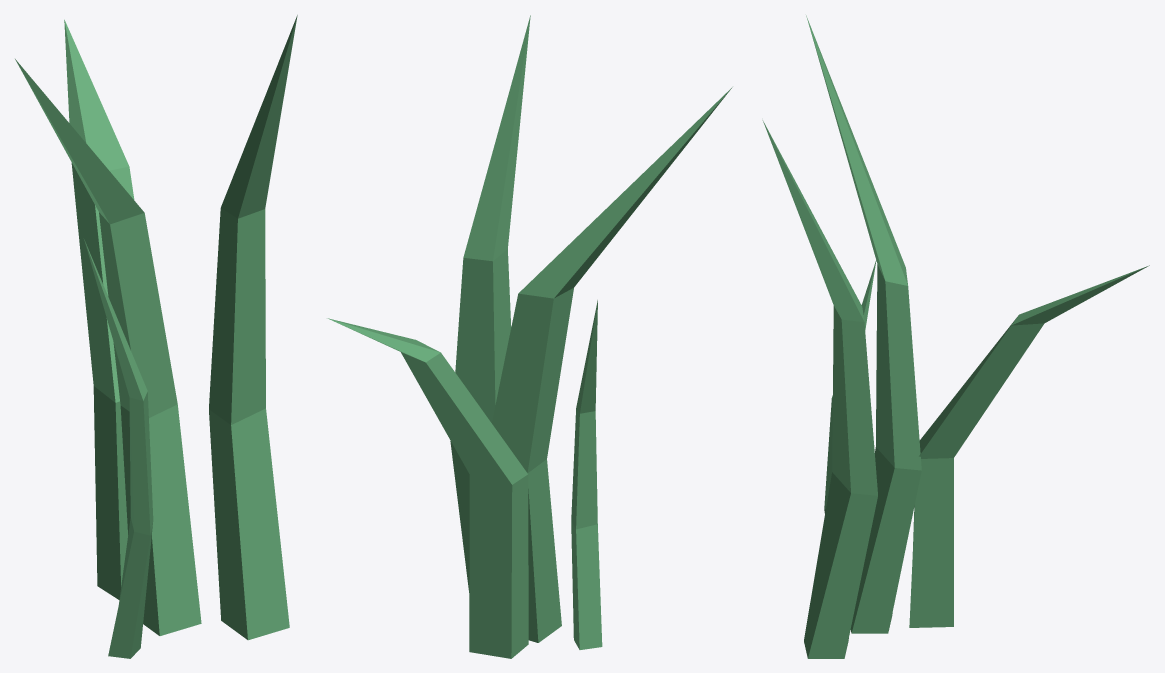
File: 01_02Grass_Green.fbx
The picture shows the model from 3 angles, left to right: view 1: azimuth 30°, elevation 25°; view 2: azimuth 150°, elevation 25°; view 3: azimuth 270°, elevation 25°; orthographic projection. The views are drawn at different scales.
Parts seen in each view (by area): view 1: Icosphere.066; view 2: Icosphere.066; view 3: Icosphere.066.
Boxes of the visible parts, left/top/right/bottom form: Icosphere.066: left=15, top=15, right=297, bottom=658; Icosphere.066: left=327, top=15, right=732, bottom=658; Icosphere.066: left=762, top=15, right=1149, bottom=658.
Bounding box in the file's own units: 30.47 × 67.63 × 44.07.
